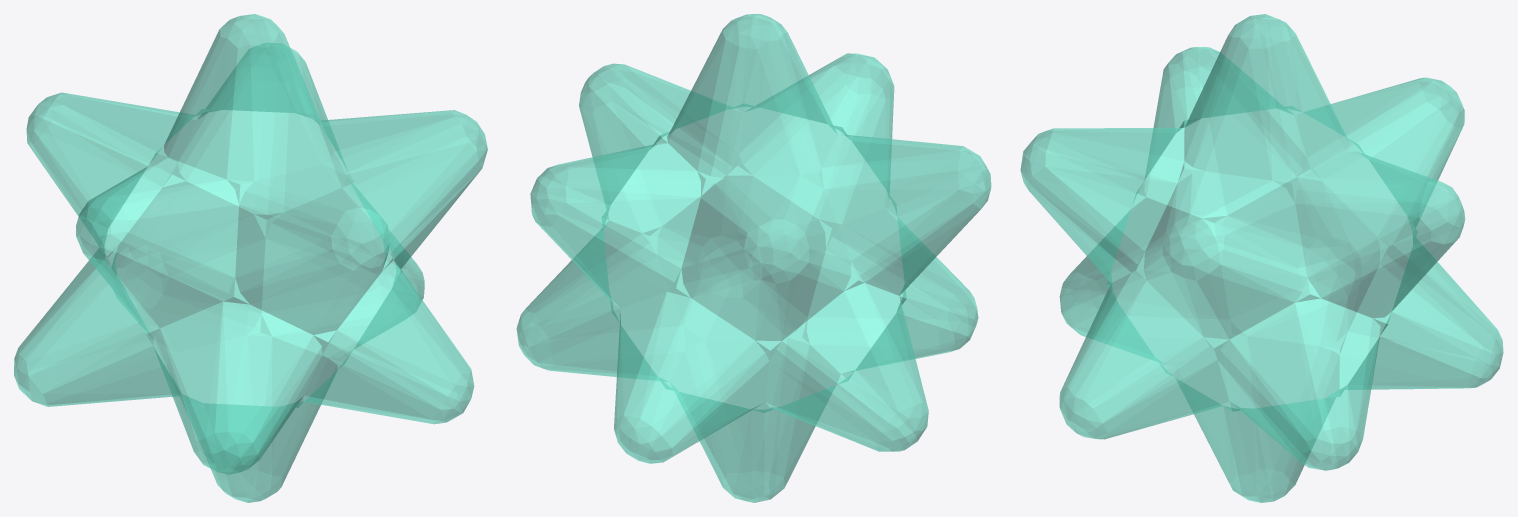
File: star2.gltf
3 views of the same model, side by side, from view 1: azimuth 30°, elevation 25°; view 2: azimuth 150°, elevation 25°; view 3: azimuth 270°, elevation 25° (orthographic).
Visible parts, largest first — view 1: star; view 2: star; view 3: star.
Boxes of the visible parts, x1,y1,x2,y2 form: star: [14, 14, 487, 502]; star: [516, 14, 991, 502]; star: [1020, 14, 1503, 502].
Size of the model in its own units: 0.0335 by 0.0383 by 0.0349.
